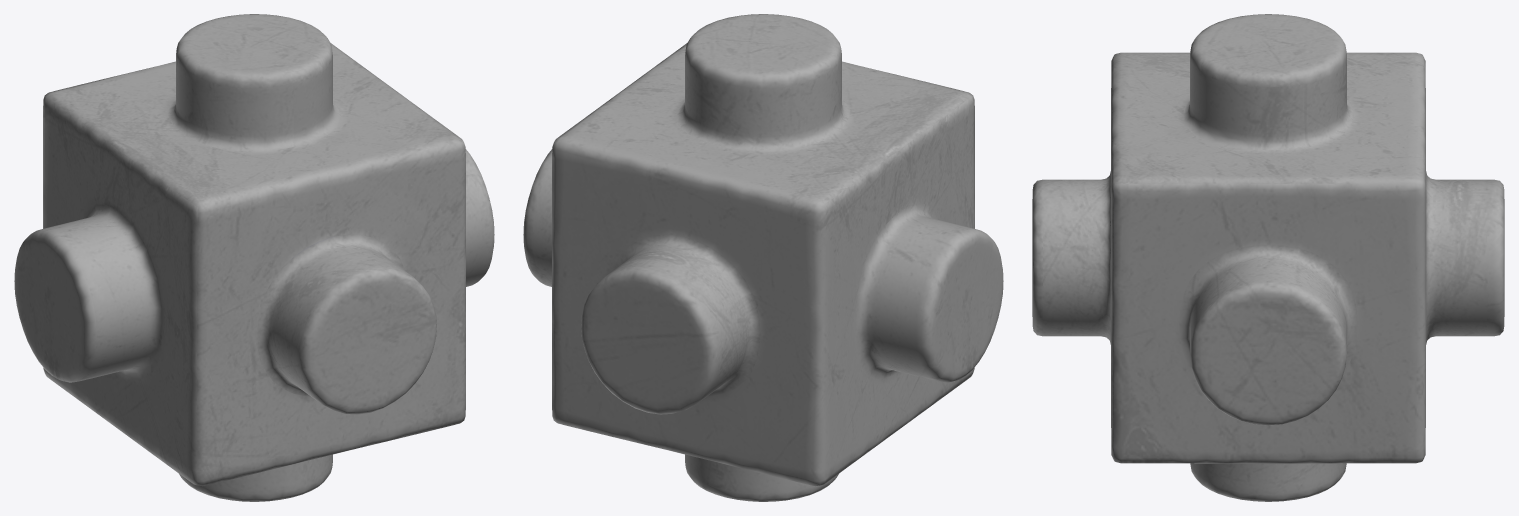
Rendered from CubeDoodad.glb.
3 views of the same model, side by side, from view 1: azimuth 30°, elevation 25°; view 2: azimuth 150°, elevation 25°; view 3: azimuth 270°, elevation 25° (orthographic).
Parts seen in each view (by area): view 1: CubeDoodad; view 2: CubeDoodad; view 3: CubeDoodad.
Boxes of the visible parts, x1=… form: CubeDoodad: x1=14, y1=14, x2=494, y2=501; CubeDoodad: x1=523, y1=14, x2=1003, y2=501; CubeDoodad: x1=1032, y1=14, x2=1504, y2=501.
Size of the model in its own units: 1.91 by 1.91 by 1.91.
1 material, 1 textured.
